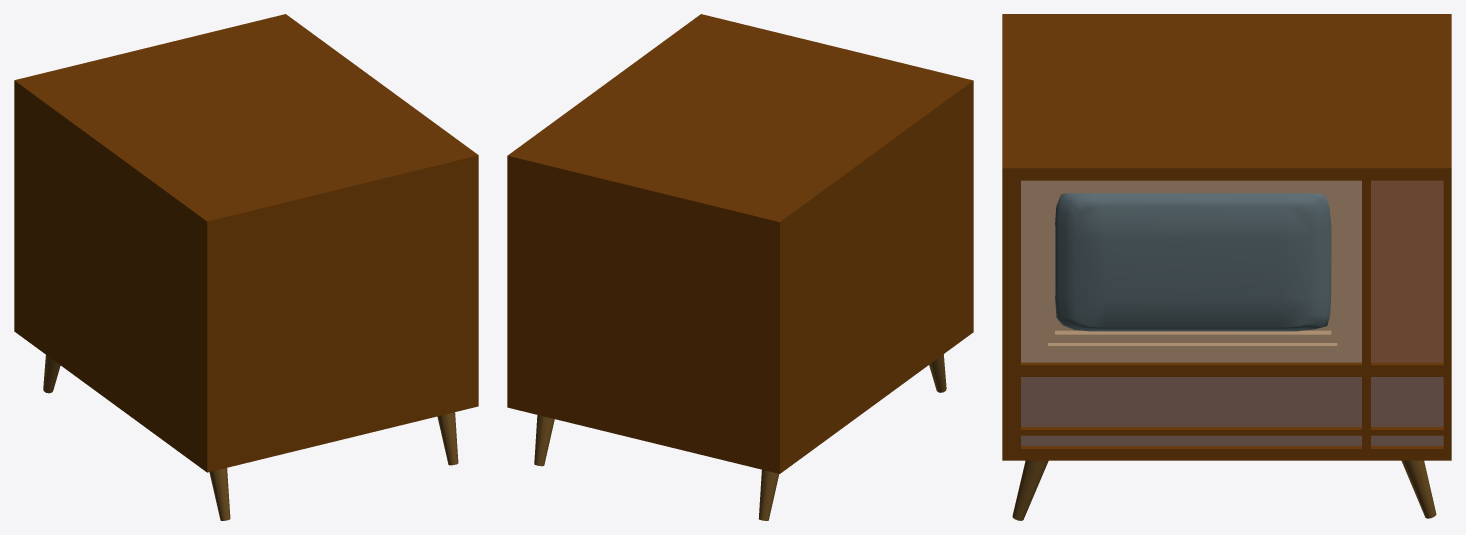
3 renders of one model, left to right at view 1: azimuth 30°, elevation 25°; view 2: azimuth 150°, elevation 25°; view 3: azimuth 270°, elevation 25°, orthographic. The views are drawn at different scales.
Visible parts, largest first — view 1: TV_Leg4; view 2: TV_Leg4; view 3: TV_Leg4.
Boxes of the visible parts, left/top/right/bottom form: TV_Leg4: left=14, top=14, right=478, bottom=520; TV_Leg4: left=507, top=14, right=973, bottom=520; TV_Leg4: left=1002, top=14, right=1451, bottom=520.
Size of the model in its own units: 61.46 by 67.16 by 75.64.
